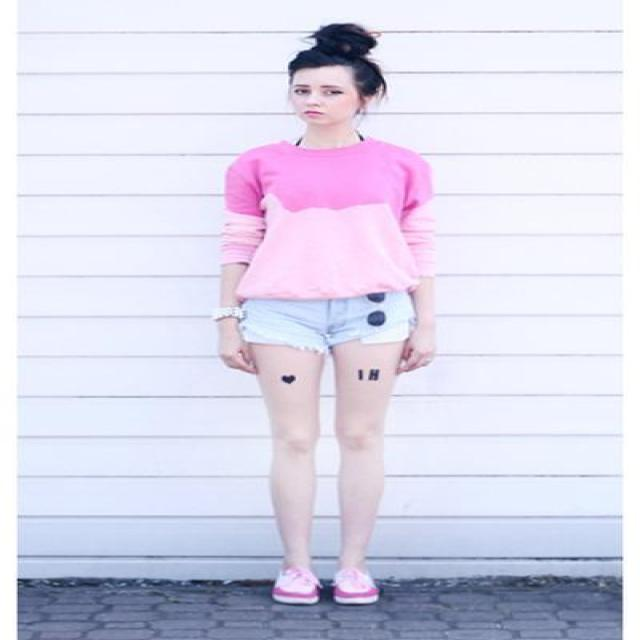shirt: (219, 138, 446, 298)
shoe: (274, 584, 376, 602)
shorts: (240, 292, 416, 351)
